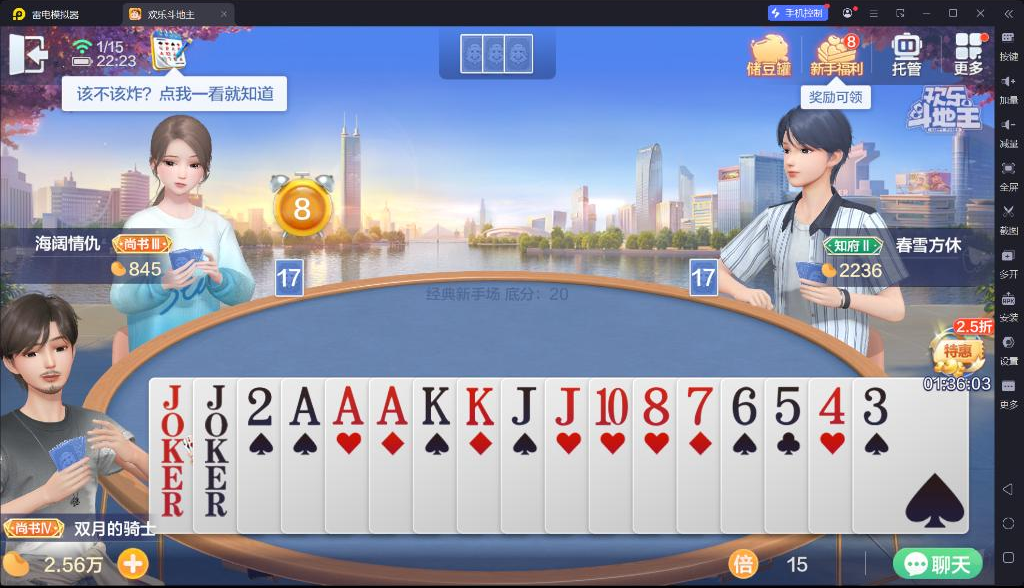A: (285, 384, 323, 428), (331, 384, 366, 428), (374, 384, 409, 427)
J: (506, 384, 540, 427), (551, 384, 583, 428)
JOKER: (156, 382, 189, 470)
K: (417, 384, 455, 428), (460, 385, 496, 427)
eight: (638, 385, 671, 426)
five: (771, 381, 805, 427)
four: (816, 384, 850, 427)
joker: (201, 381, 232, 470)
seven: (684, 384, 714, 427)
six: (727, 383, 760, 429)
ten: (592, 384, 630, 427)
three: (858, 385, 892, 427)
two: (244, 386, 275, 429)
